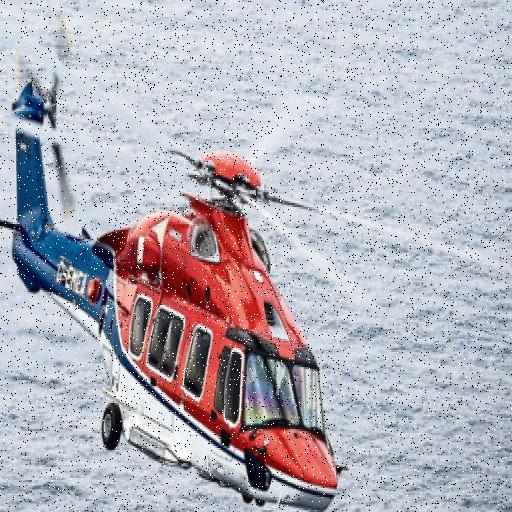helicopter: (1, 8, 349, 512)
